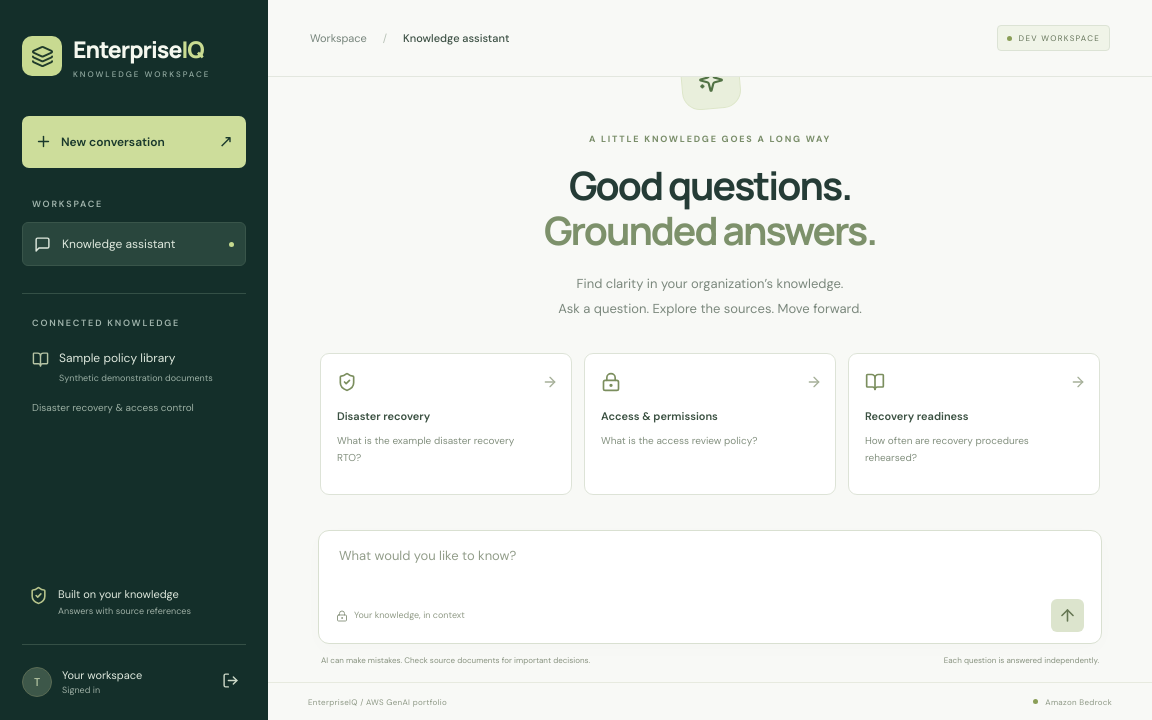
Test case: workspace › reports an expired session
Type "Recovery?" into the text box named "Ask a question". click: coordinates (710, 569)
box: x1=336 y1=546 x2=1084 y2=592
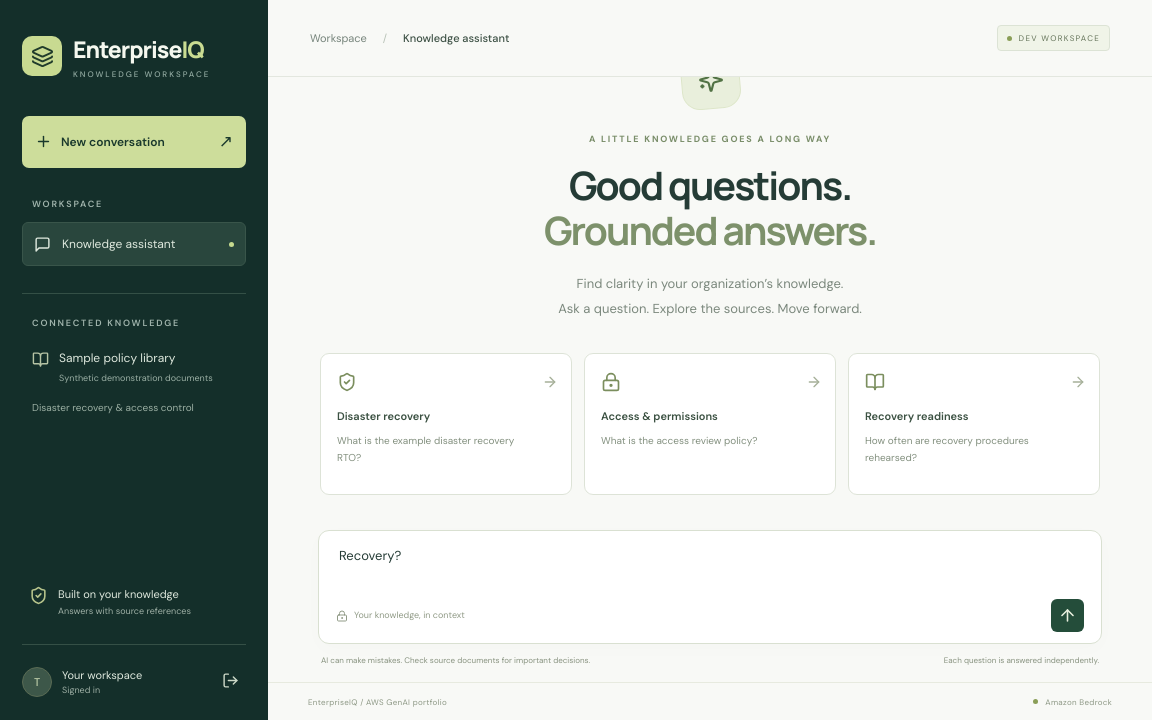
Click the button named "Send question". click: coordinates (1068, 616)
box: x1=1051 y1=599 x2=1084 y2=632
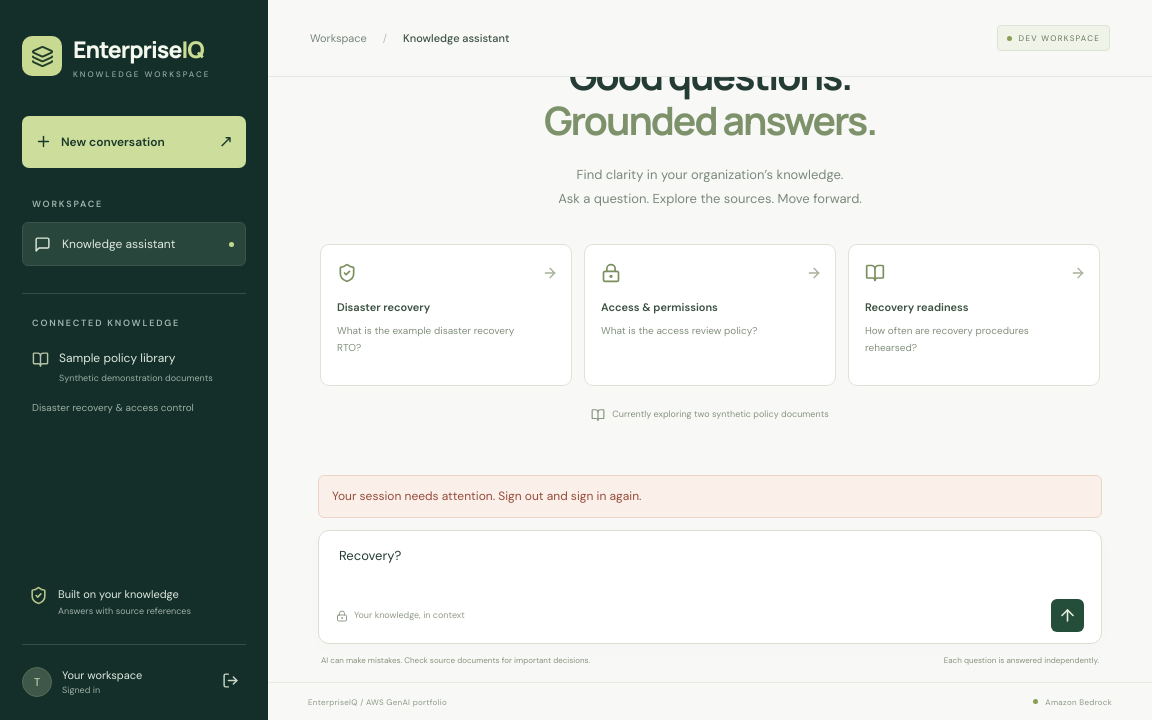
Expected: the message shows "Sign out and sign in again", x1=332 y1=488 x2=641 y2=504
